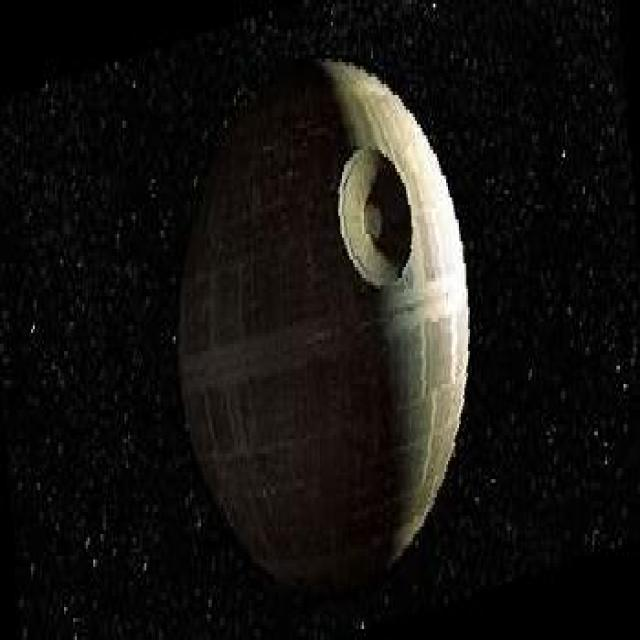Death Star: (170, 44, 475, 596)
